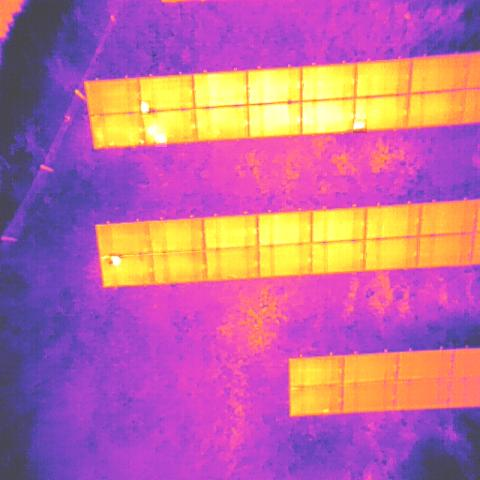fault: (354, 120, 368, 134), (109, 254, 123, 267), (139, 100, 151, 115), (155, 133, 167, 147)
